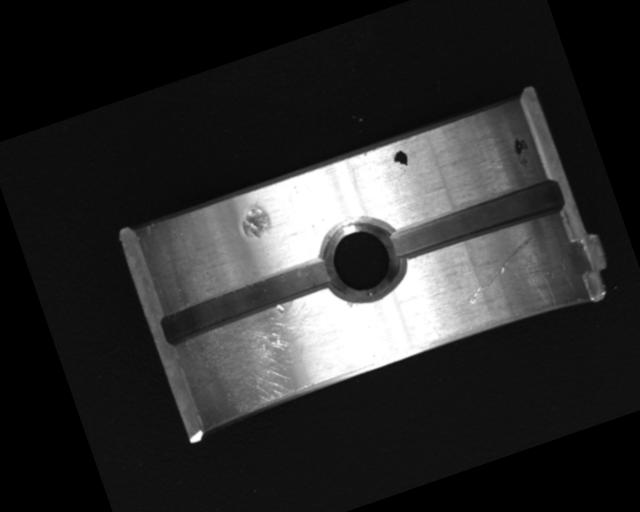blot: (510, 134, 535, 170), (390, 148, 411, 173)
bruise: (233, 196, 275, 243)
gap: (156, 253, 343, 349), (384, 170, 568, 267)
hole: (311, 205, 417, 315)
nick: (453, 235, 547, 306)
scratch: (182, 286, 362, 425)
